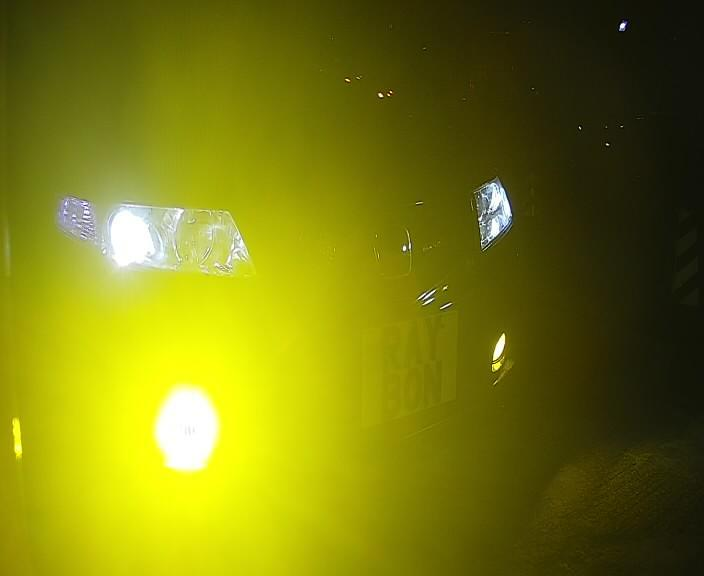privatecar: (2, 31, 580, 499)
